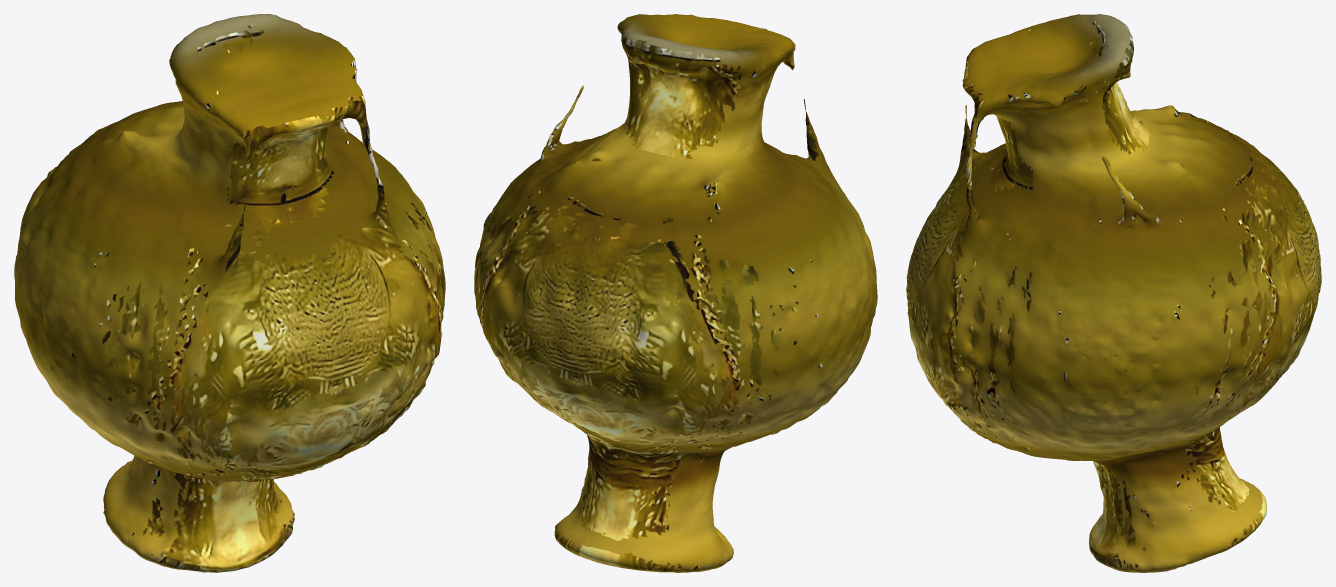
File: kfl-2247.glb
3 views of the same model, side by side, from view 1: azimuth 30°, elevation 25°; view 2: azimuth 150°, elevation 25°; view 3: azimuth 270°, elevation 25° (orthographic). The views are drawn at different scales.
Parts seen in each view (by area): view 1: kfl-2247; view 2: kfl-2247; view 3: kfl-2247.
Part boxes in pixels (bbox=[...]): kfl-2247: bbox=[14, 14, 445, 572]; kfl-2247: bbox=[474, 14, 877, 572]; kfl-2247: bbox=[906, 14, 1321, 572].
Bounding box in the file's own units: 0.7231 × 0.9964 × 0.7271.
4 materials, 4 textured.
